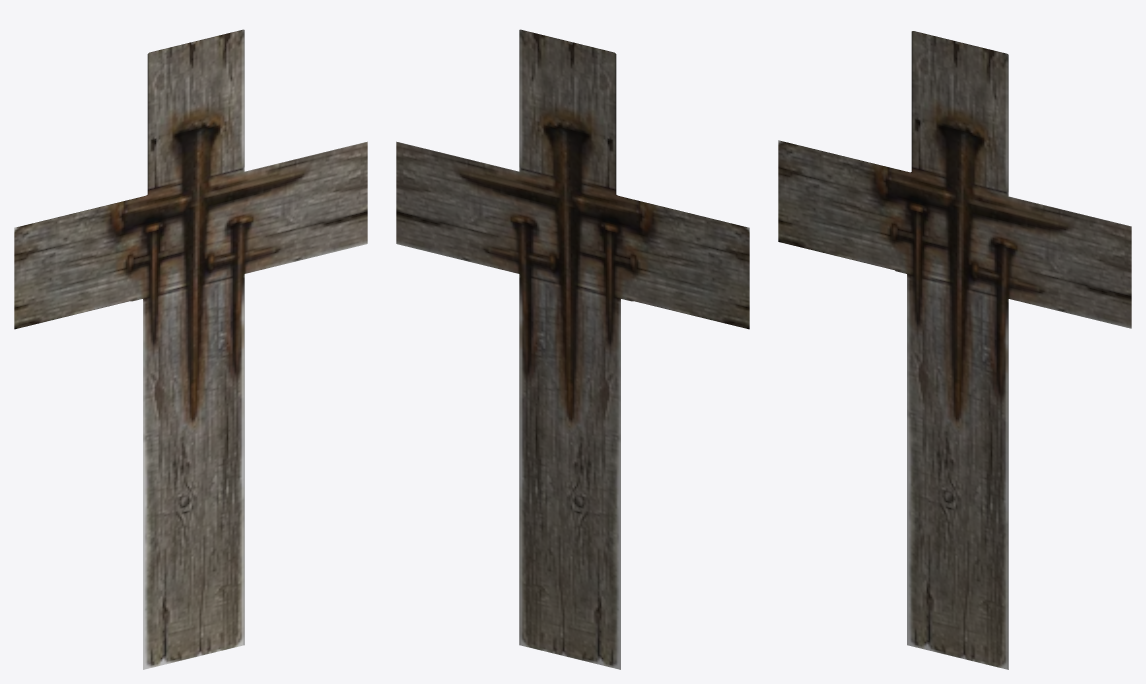
The model's file is wall_cross_12.fbx.
The picture shows the model from 3 angles, left to right: view 1: azimuth 30°, elevation 25°; view 2: azimuth 150°, elevation 25°; view 3: azimuth 330°, elevation 25°; orthographic projection.
Parts seen in each view (by area): view 1: wall_cross_12; view 2: wall_cross_12; view 3: wall_cross_12.
Boxes of the visible parts, x1,y1,x2,y2 form: wall_cross_12: (14, 29, 367, 669); wall_cross_12: (396, 29, 749, 669); wall_cross_12: (778, 31, 1131, 669).
Size of the model in its own units: 29.44 by 50.21 by 2.41e-05.
